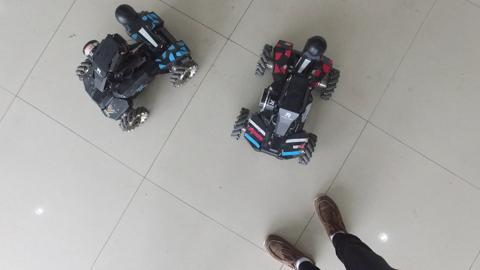chariot: (68, 2, 211, 142), (227, 28, 349, 175)
